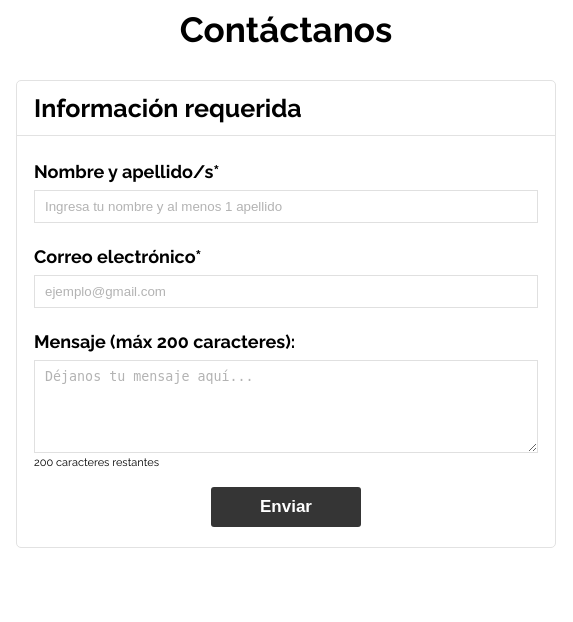
Contacto › muestra errores si se envía con campos vacíos
This screenshot has width=573, height=622.
Click the button "Enviar": {"x": 286, "y": 507} [211,487,361,527]
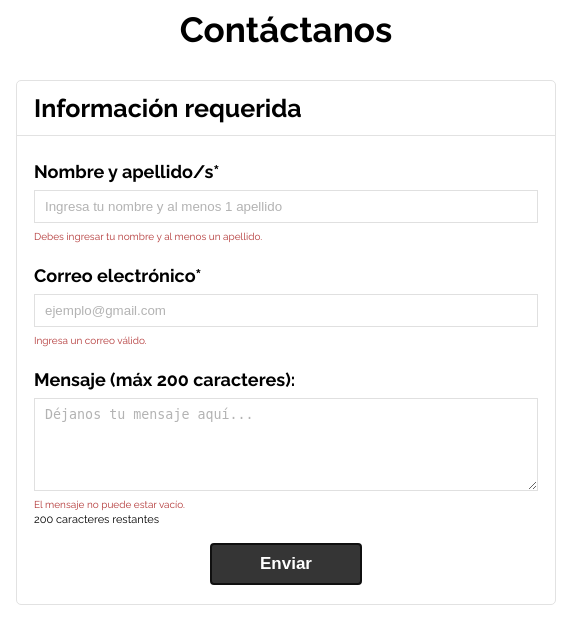
expect the text "Debes ingresar tu nombre y al menos un apellido." is shown: met, box [34,231,262,242]
expect the text "Ingresa un correo válido." is shown: met, box [34,335,147,346]
expect the text "El mensaje no puede estar vacío." is shown: met, box [34,499,185,510]
